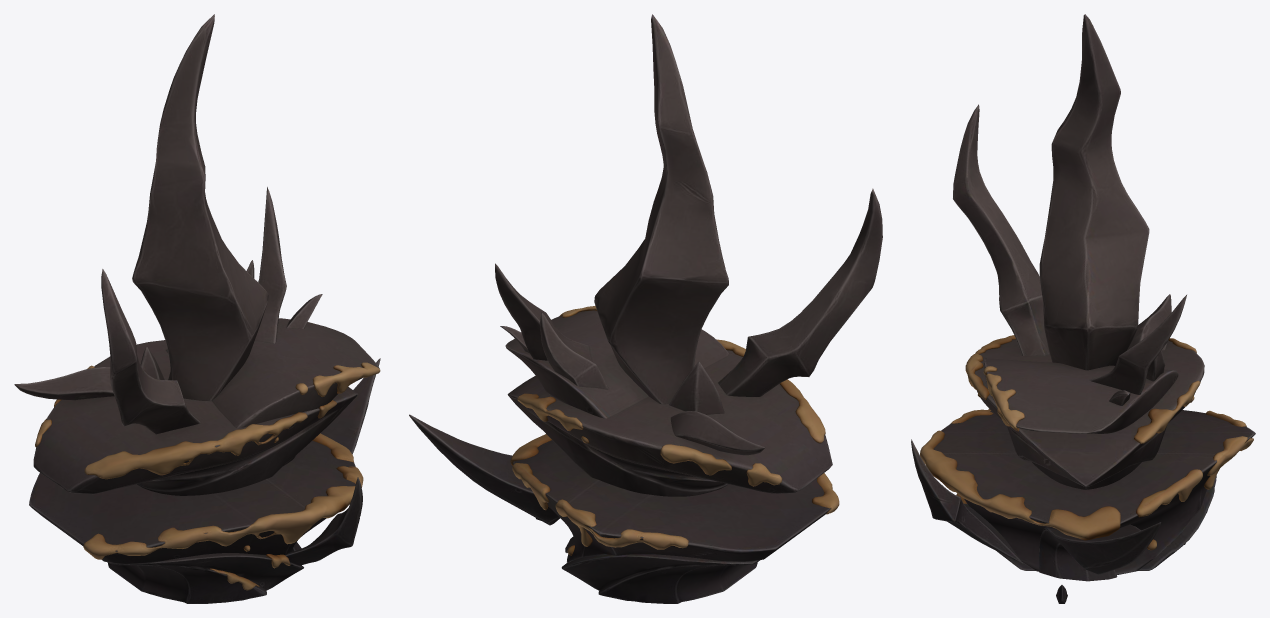
File: obsidian_tower_02_b.glb
3 views of the same model, side by side, from view 1: azimuth 30°, elevation 25°; view 2: azimuth 150°, elevation 25°; view 3: azimuth 270°, elevation 25° (orthographic). The views are drawn at different scales.
Parts seen in each view (by area): view 1: SM_KC_OBSIDIAN_TOWER_02_B; view 2: SM_KC_OBSIDIAN_TOWER_02_B; view 3: SM_KC_OBSIDIAN_TOWER_02_B.
Part boxes in pixels (left/top/right/bottom): SM_KC_OBSIDIAN_TOWER_02_B: left=14, top=14, right=380, bottom=603; SM_KC_OBSIDIAN_TOWER_02_B: left=409, top=14, right=882, bottom=603; SM_KC_OBSIDIAN_TOWER_02_B: left=911, top=14, right=1255, bottom=603.
Size of the model in its own units: 17.55 by 24.36 by 14.36.
Materials: 1 (1 with a texture image).
